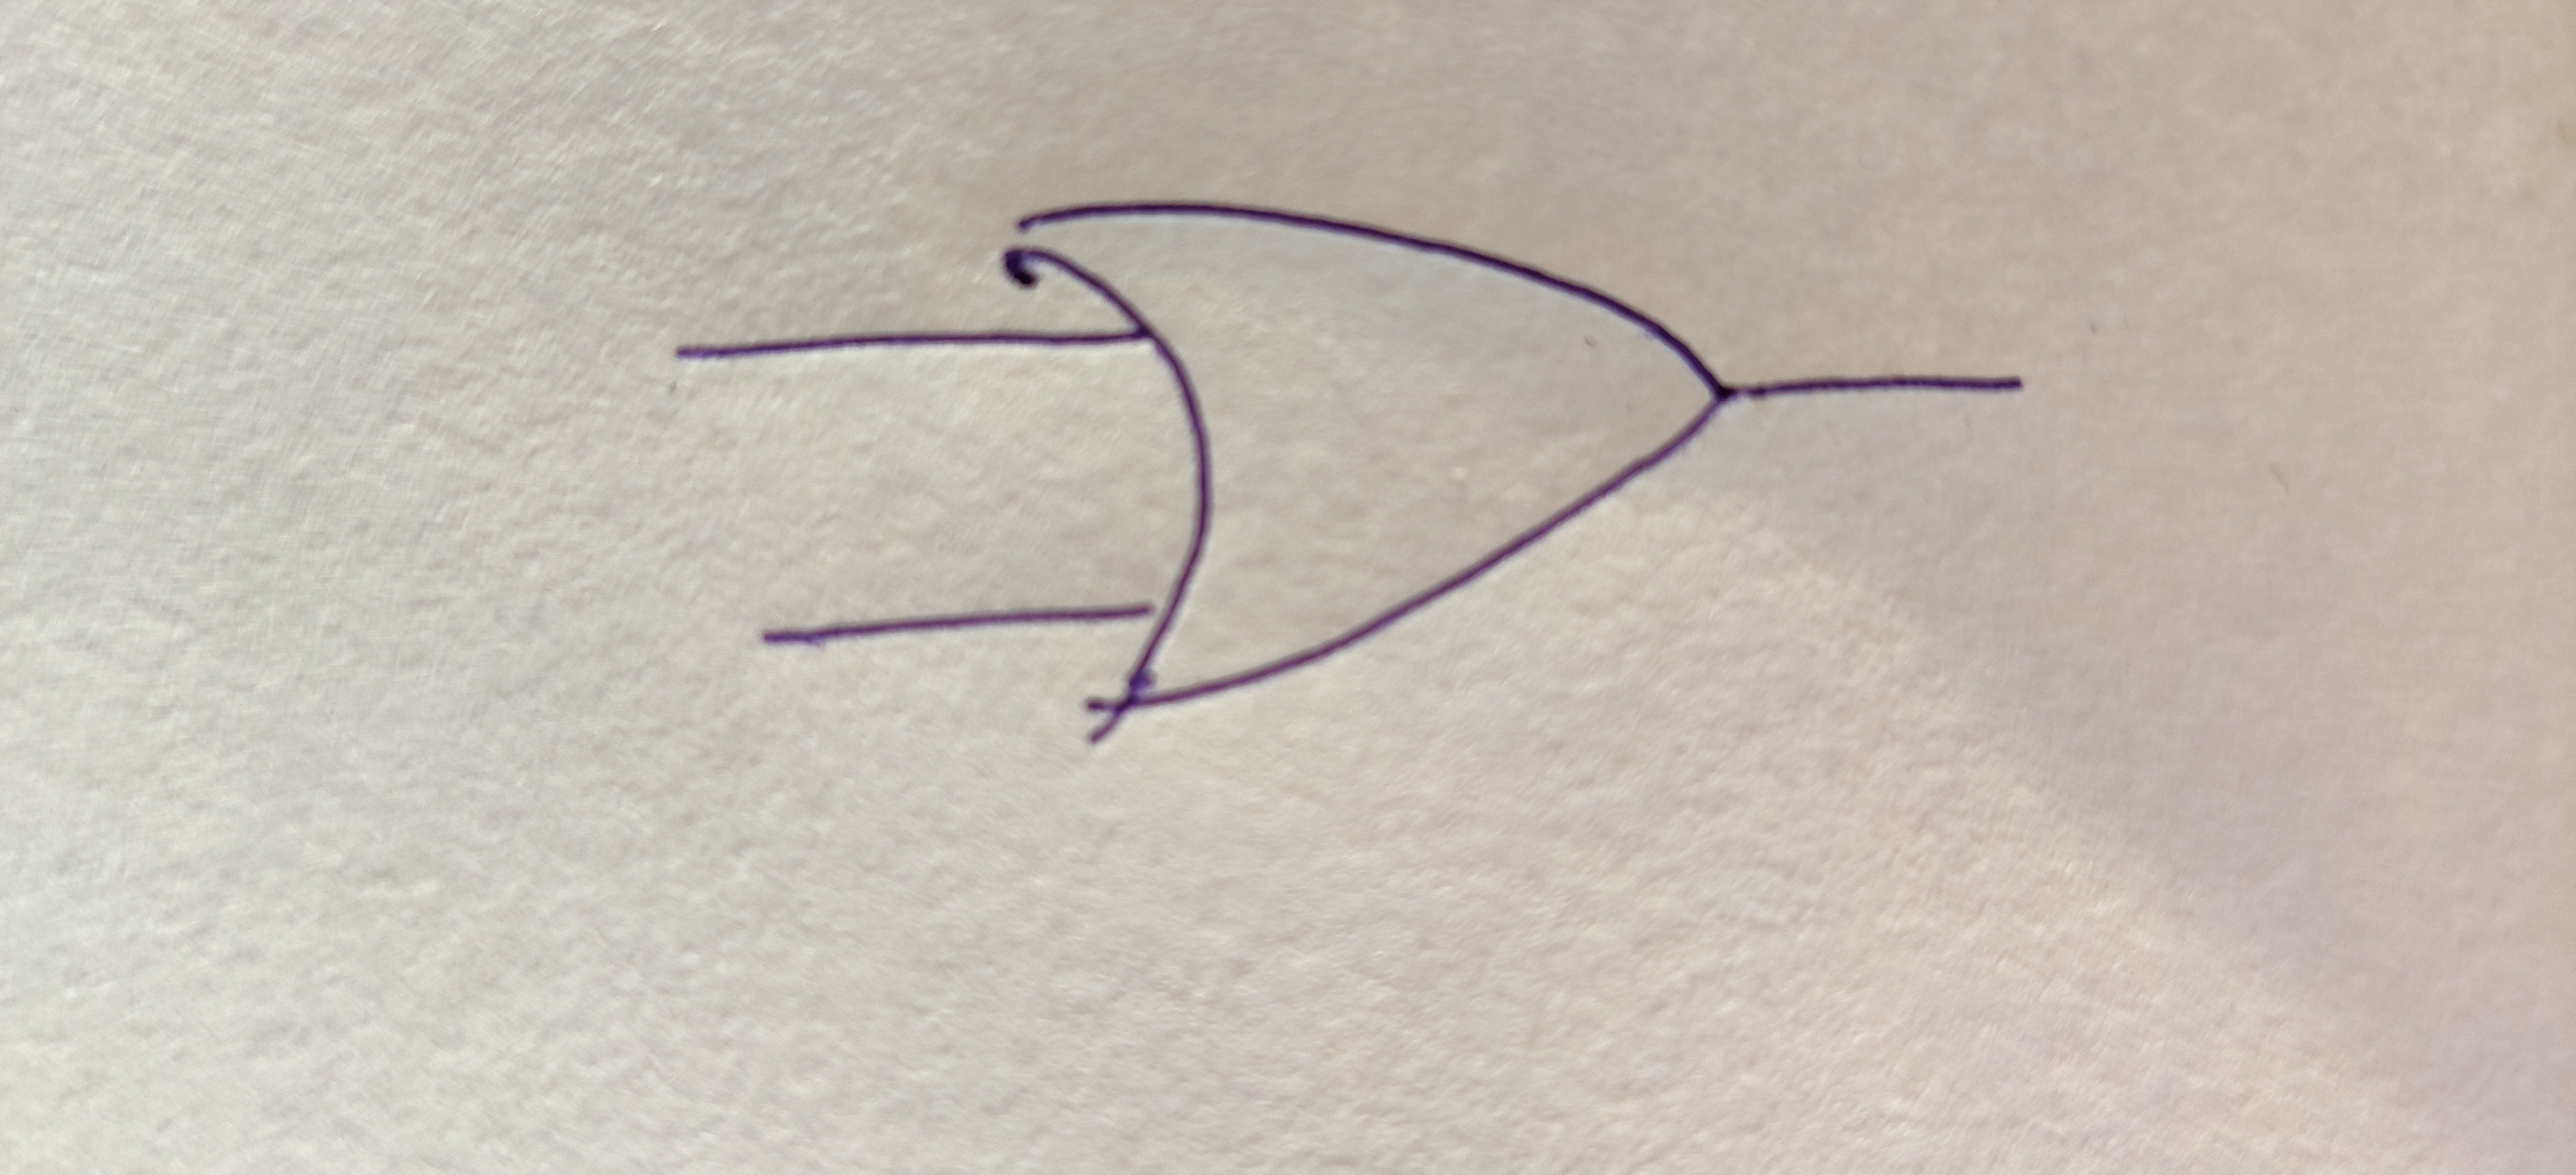or: (1022, 202, 1727, 712)
